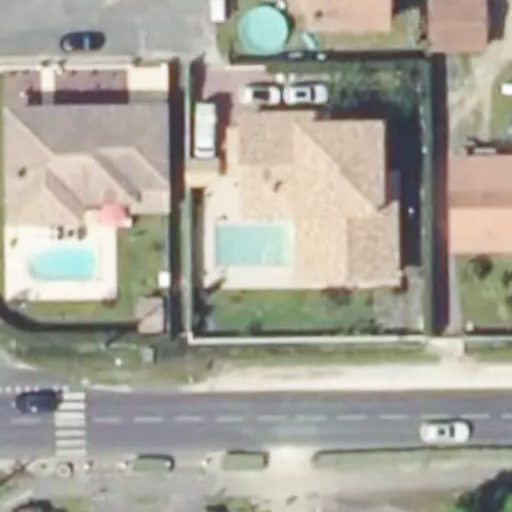pool: (212, 223, 292, 266), (27, 243, 99, 281), (237, 6, 291, 55)
